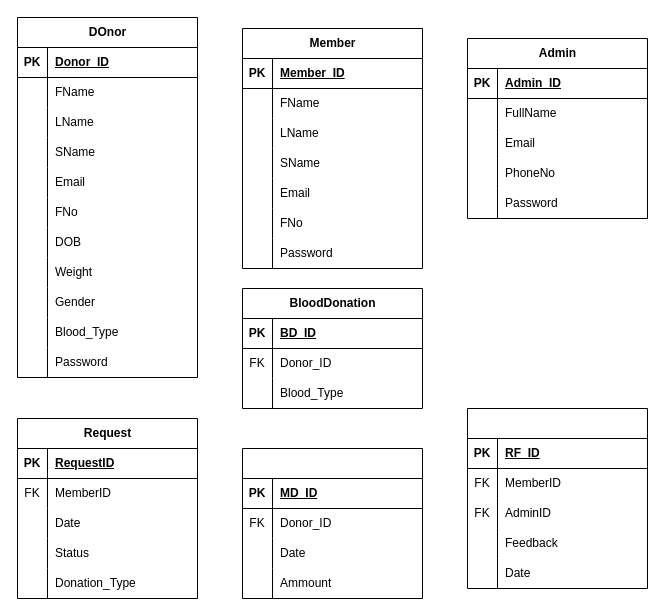
This 665x616 diagram has some shape labels left out. Here are the shapes that lost their labels. From the top down, the box of each, then its label:
(466, 408, 648, 588): RequestFeedback
(242, 448, 422, 598): Money_Donation
